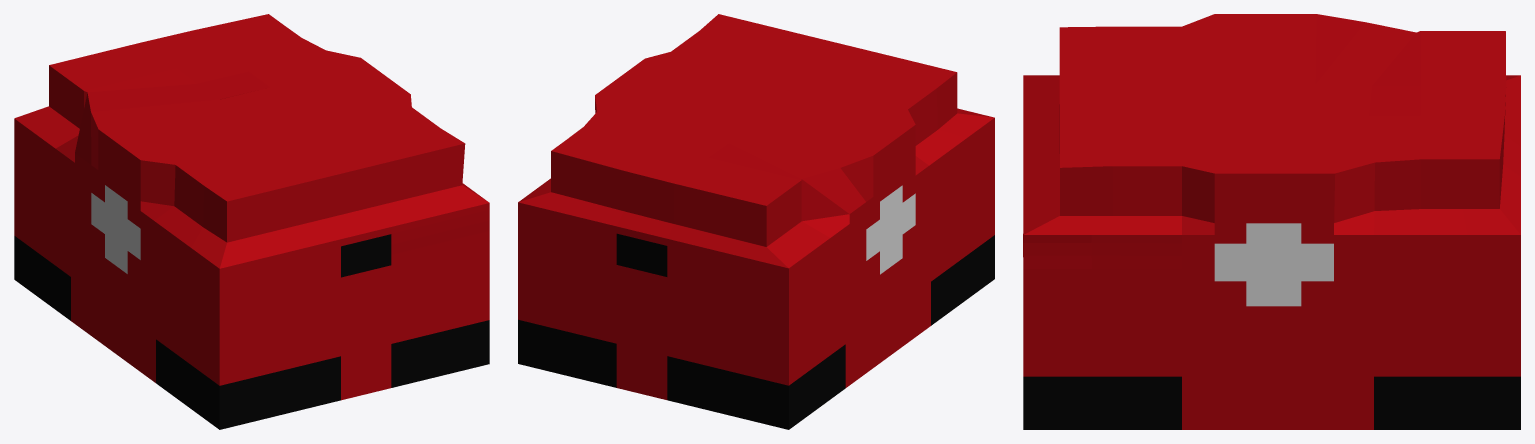
The model's file is ApteczkavWERSJAOSTATECZNA.fbx.
3 renders of one model, left to right at view 1: azimuth 30°, elevation 25°; view 2: azimuth 150°, elevation 25°; view 3: azimuth 270°, elevation 25°, orthographic. The views are drawn at different scales.
Parts seen in each view (by area): view 1: Cube; view 2: Cube; view 3: Cube.
Boxes of the visible parts, left/top/right/bottom form: Cube: left=14, top=14, right=489, bottom=429; Cube: left=518, top=14, right=994, bottom=429; Cube: left=1023, top=14, right=1520, bottom=429.
Bounding box in the file's own units: 21.01 × 15.81 × 27.71.
